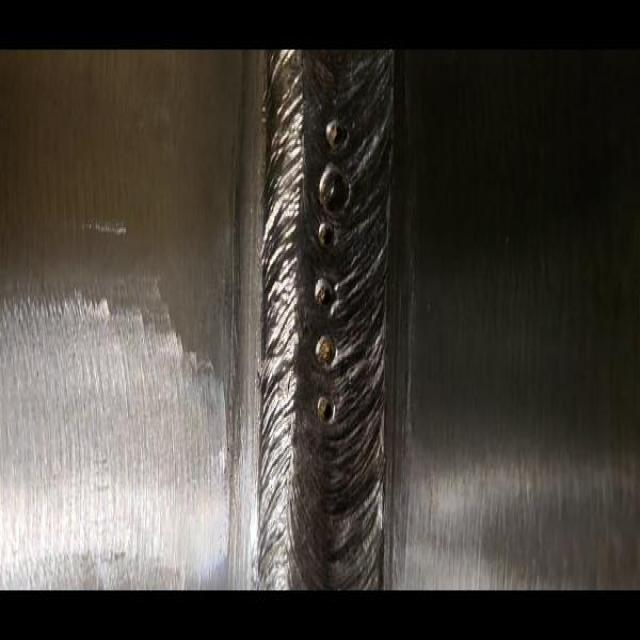Welding Line: (268, 58, 389, 588)
Workpiece: (0, 51, 640, 588)
porosity: (313, 115, 352, 424)
